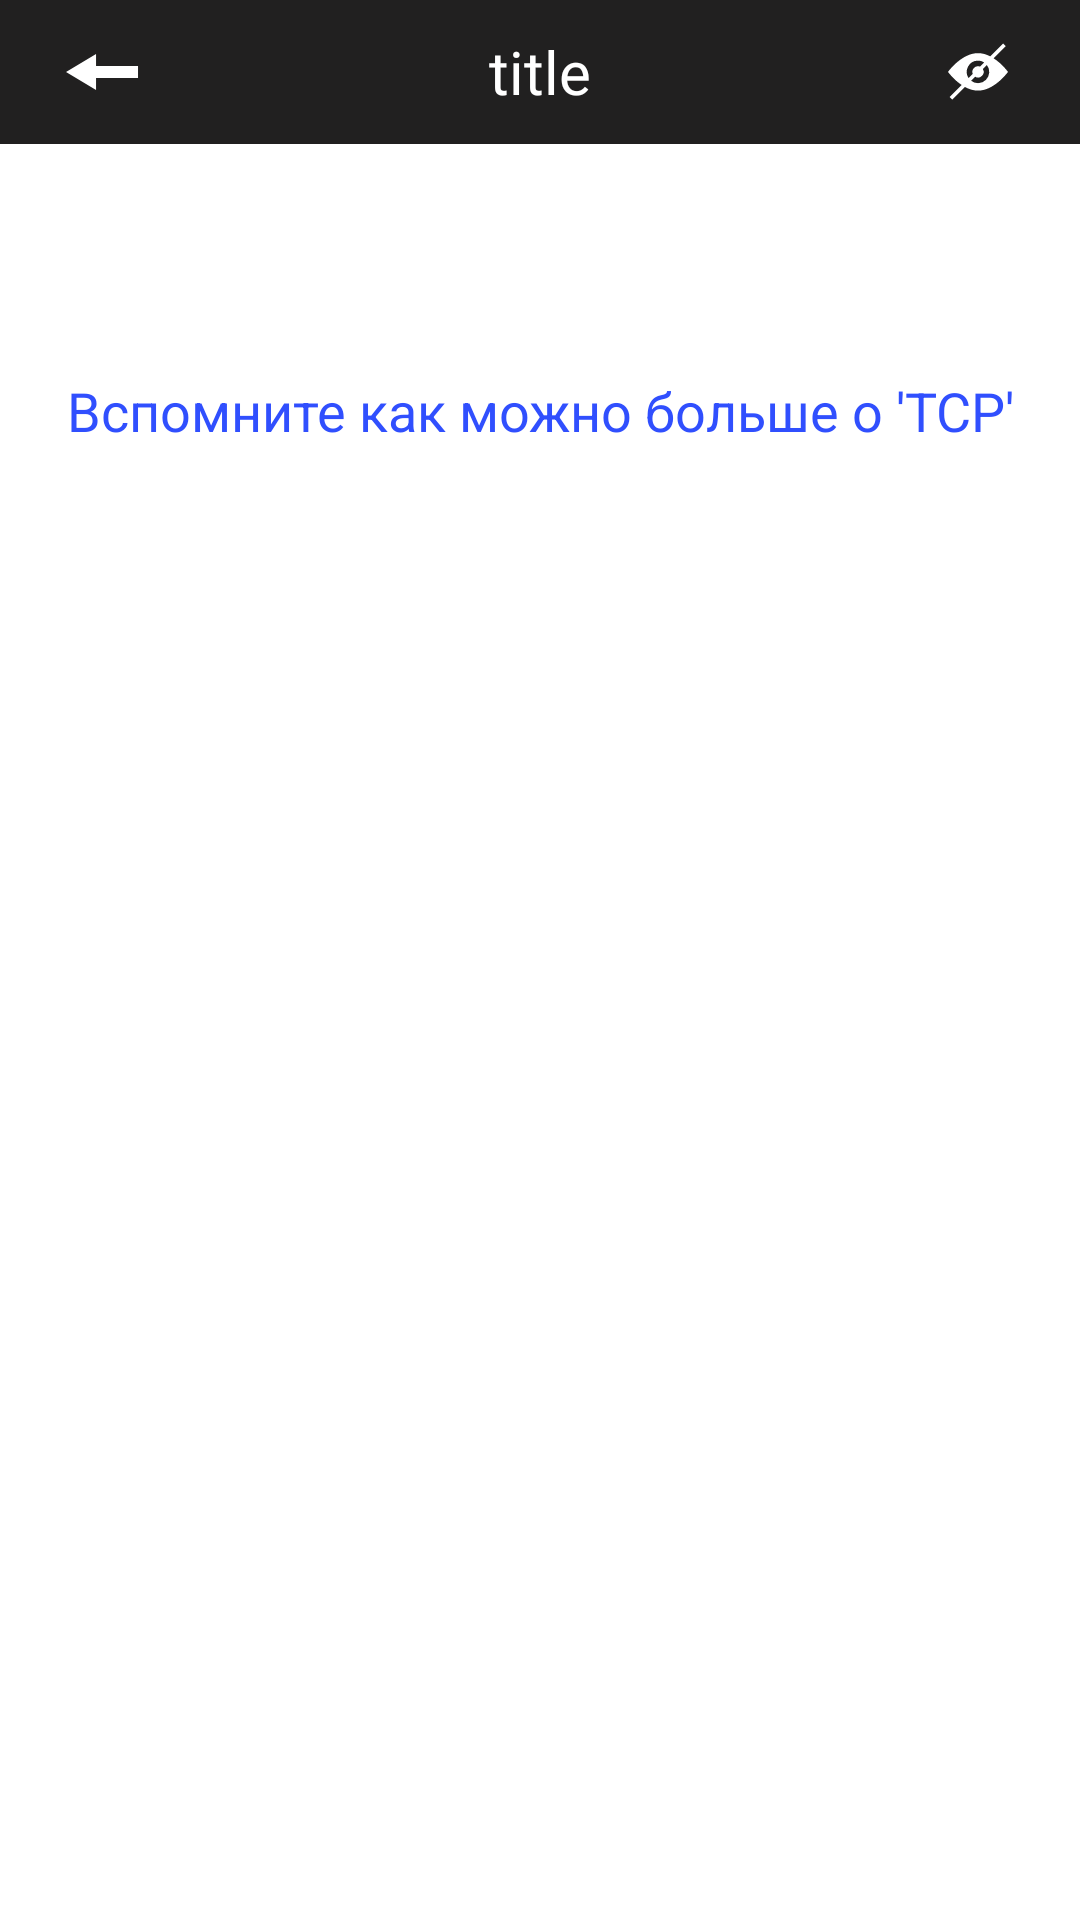

Named icons in this screenshot (1080*1920) and their centers, point (x, y):
eye crossed: point (978, 71)
кнопка навигации в основное меню: point (102, 72)
